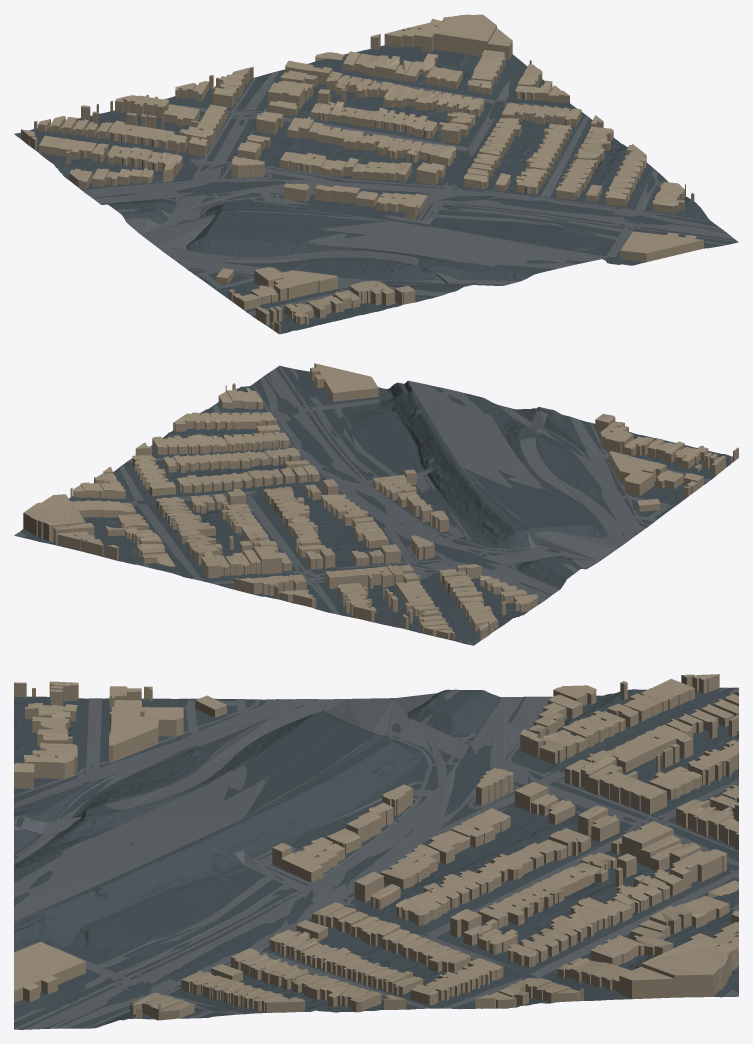
The model's file is epsg26910-1427-10869.lod0.glb.
The picture shows the model from 3 angles, top to bottom: view 1: azimuth 30°, elevation 25°; view 2: azimuth 150°, elevation 25°; view 3: azimuth 270°, elevation 25°; orthographic projection. The views are drawn at different scales.
Visible parts, largest first — view 1: epsg26910-1427-10869-lod0; view 2: epsg26910-1427-10869-lod0; view 3: epsg26910-1427-10869-lod0.
Part boxes in pixels (left/top/right/bottom): epsg26910-1427-10869-lod0: left=14, top=14, right=738, bottom=334; epsg26910-1427-10869-lod0: left=14, top=363, right=738, bottom=645; epsg26910-1427-10869-lod0: left=14, top=674, right=738, bottom=1029.
Bounding box in the file's own units: 384 × 32.65 × 384.
